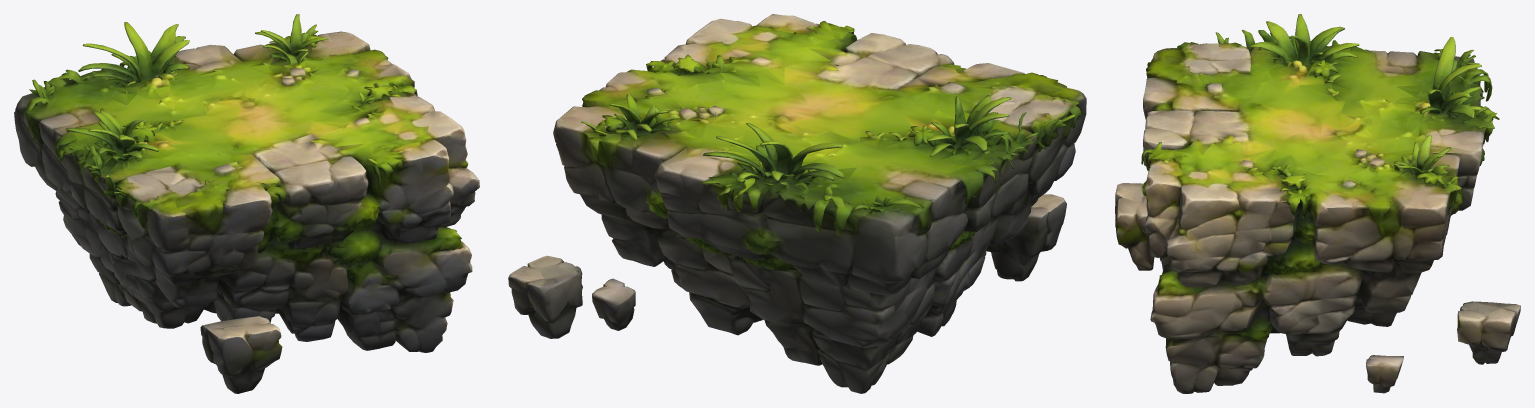
File: Island_Small.fbx
3 renders of one model, left to right at view 1: azimuth 30°, elevation 25°; view 2: azimuth 150°, elevation 25°; view 3: azimuth 270°, elevation 25°, orthographic. The views are drawn at different scales.
Visible parts, largest first — view 1: Island_Small; view 2: Island_Small; view 3: Island_Small.
Boxes of the visible parts, x1,y1,x2,y2 form: Island_Small: (14, 14, 479, 393); Island_Small: (508, 14, 1086, 393); Island_Small: (1115, 14, 1520, 393).
Bounding box in the file's own units: 520 × 360 × 520.
1 material, 1 textured.
